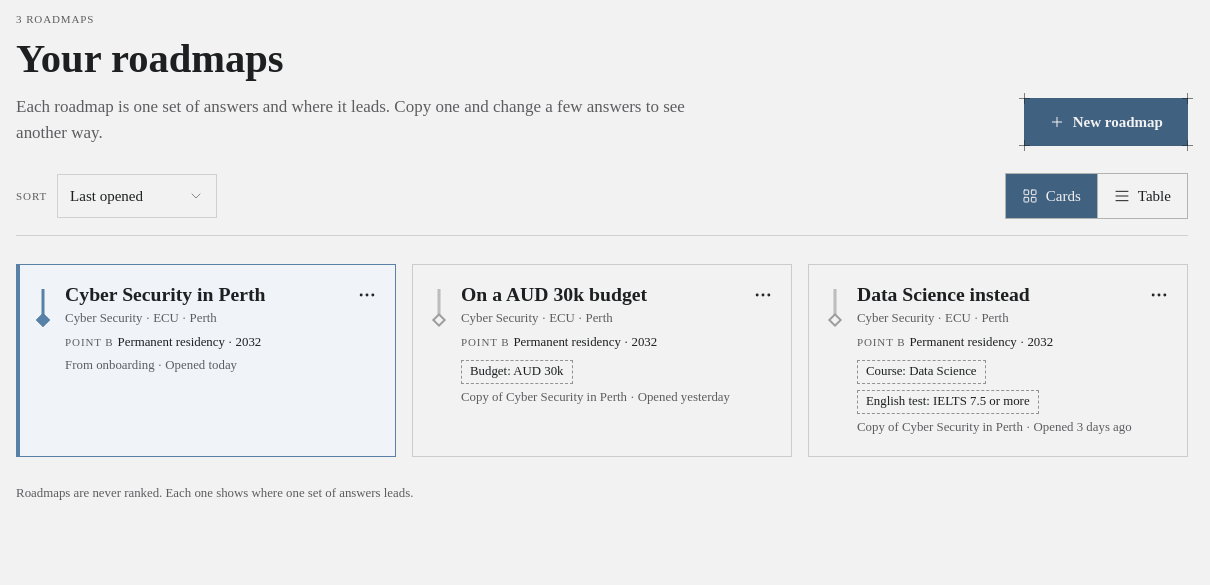
Test: the … menu › closes on Escape and gives focus back to its … button
Click the button named "More for Data Science instead" at point(1159, 294), box [1137,272,1181,316]
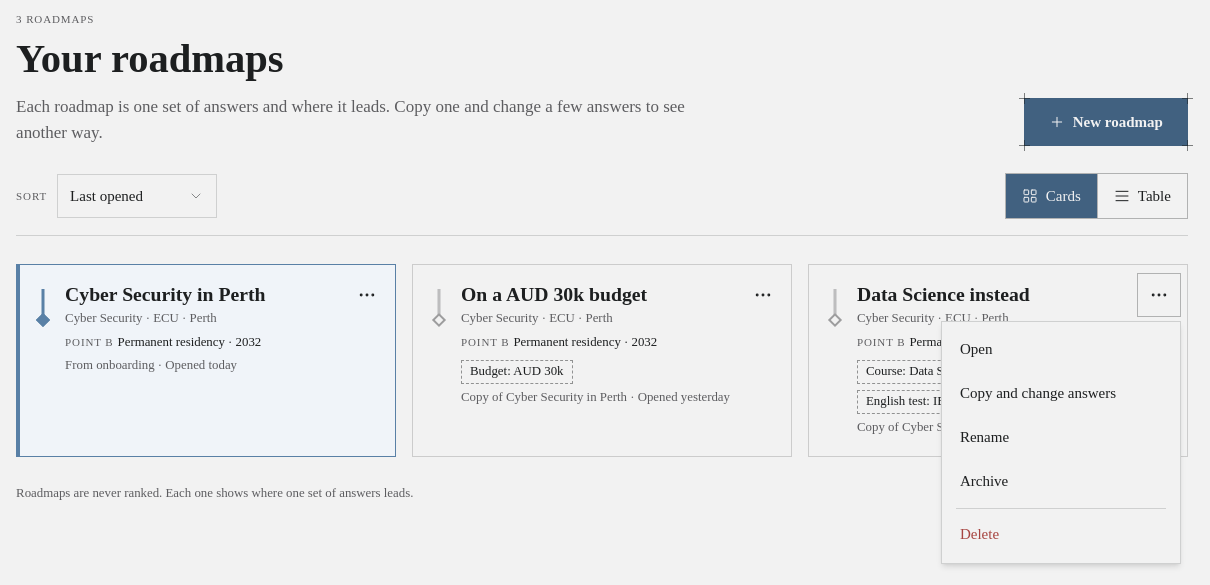
Press Escape in the menu, box [941,320,1181,564]
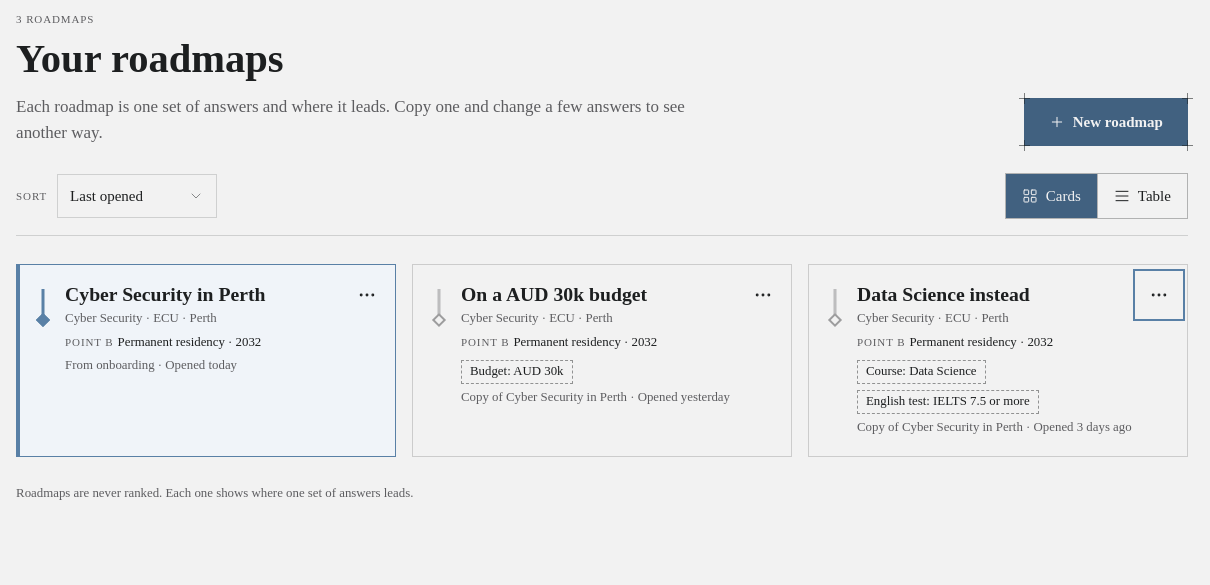
Now the menu is gone
